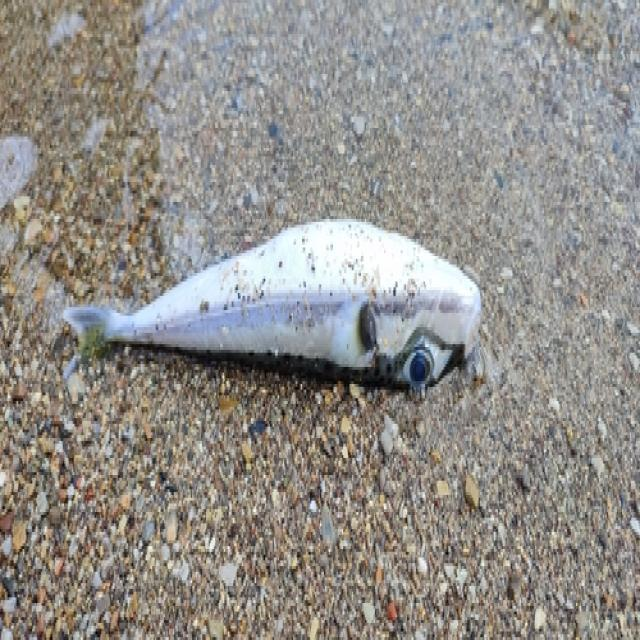Balik: (64, 220, 481, 389)
